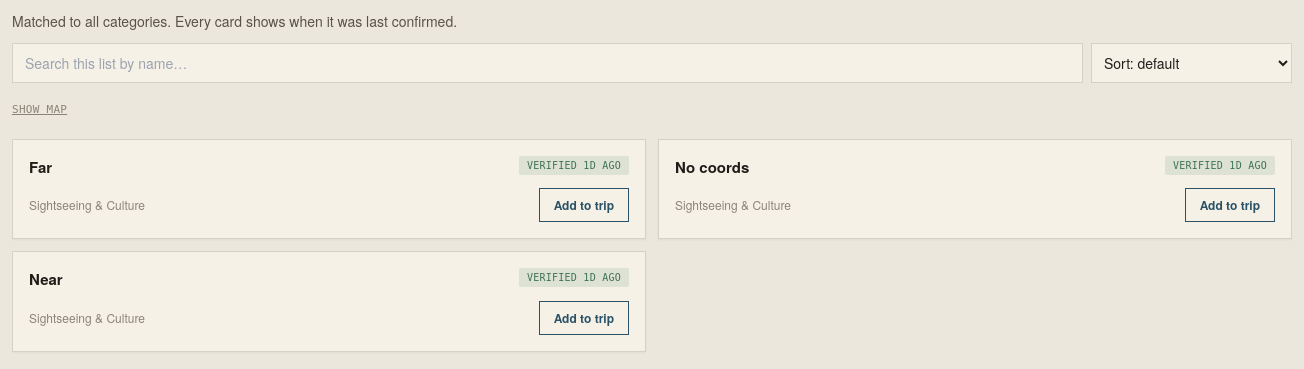
Scenario: DiscoverScreen › sorts by distance from the active city's center, using real coordinates on both sides
The width and height of the screenshot is (1304, 369).
Expected: the heading "Far" is shown, [29,156,52,178]
Select "Sort: nearest to city center" in the dropdown named "Sort by" at [1192, 63], box [1091,43,1292,83]
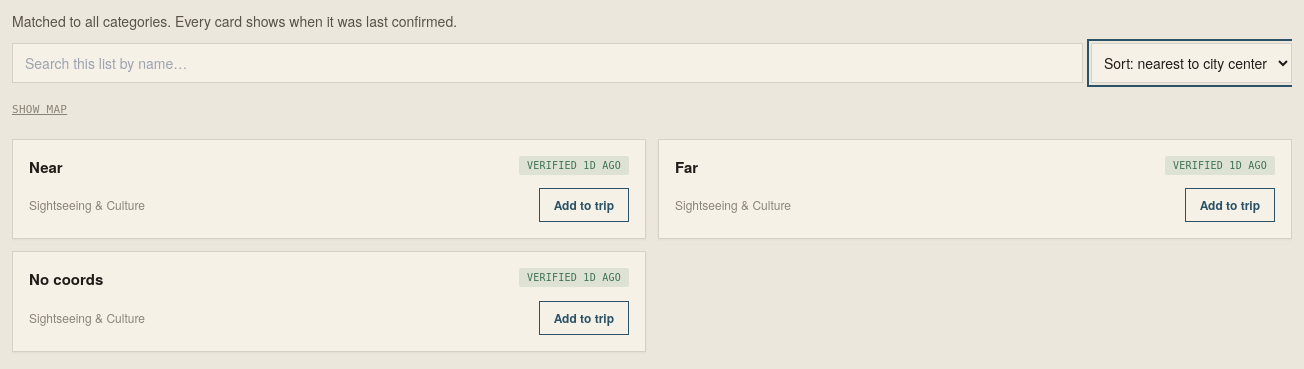
Expected: the headings read "Near", "Far", "No coords", in this order, [29,156,63,178]; [675,156,698,178]; [29,268,103,290]
